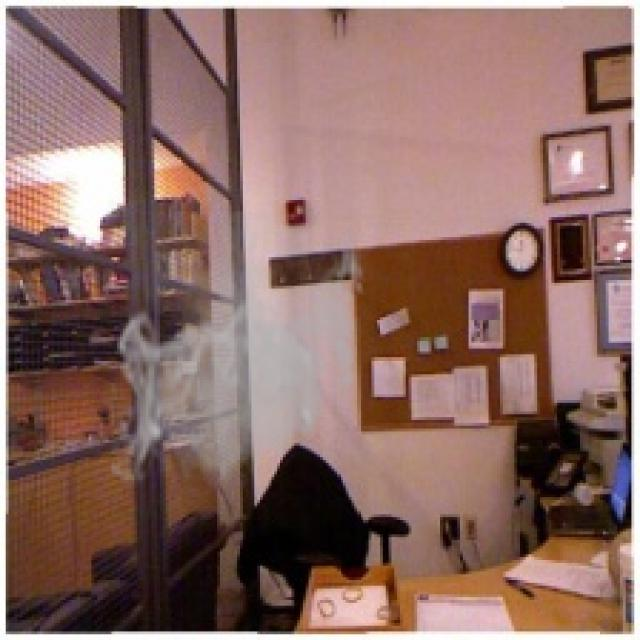smoke: (111, 212, 372, 492)
